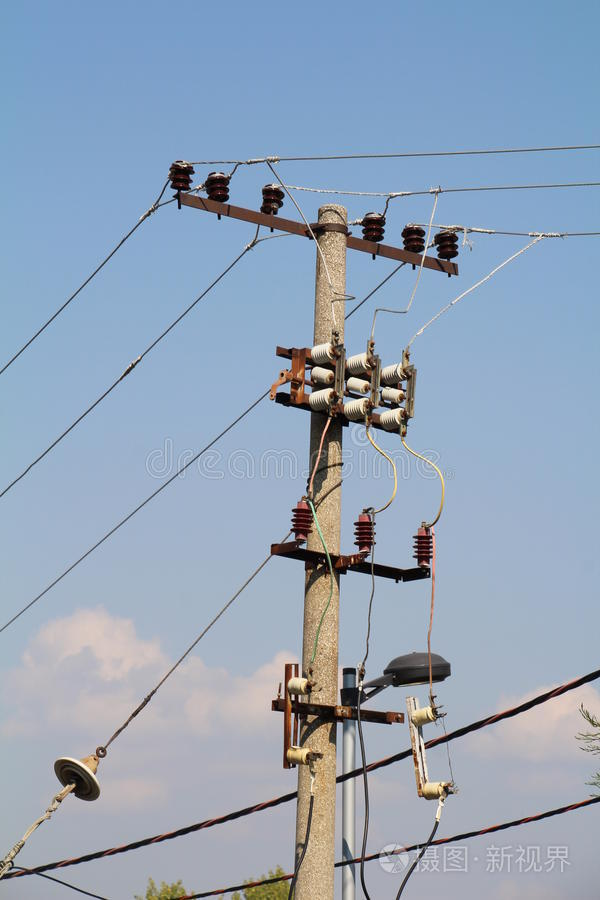insulator: (200, 171, 235, 202), (357, 212, 391, 243), (163, 161, 193, 195), (257, 184, 287, 218), (395, 223, 425, 253), (433, 231, 463, 261)
